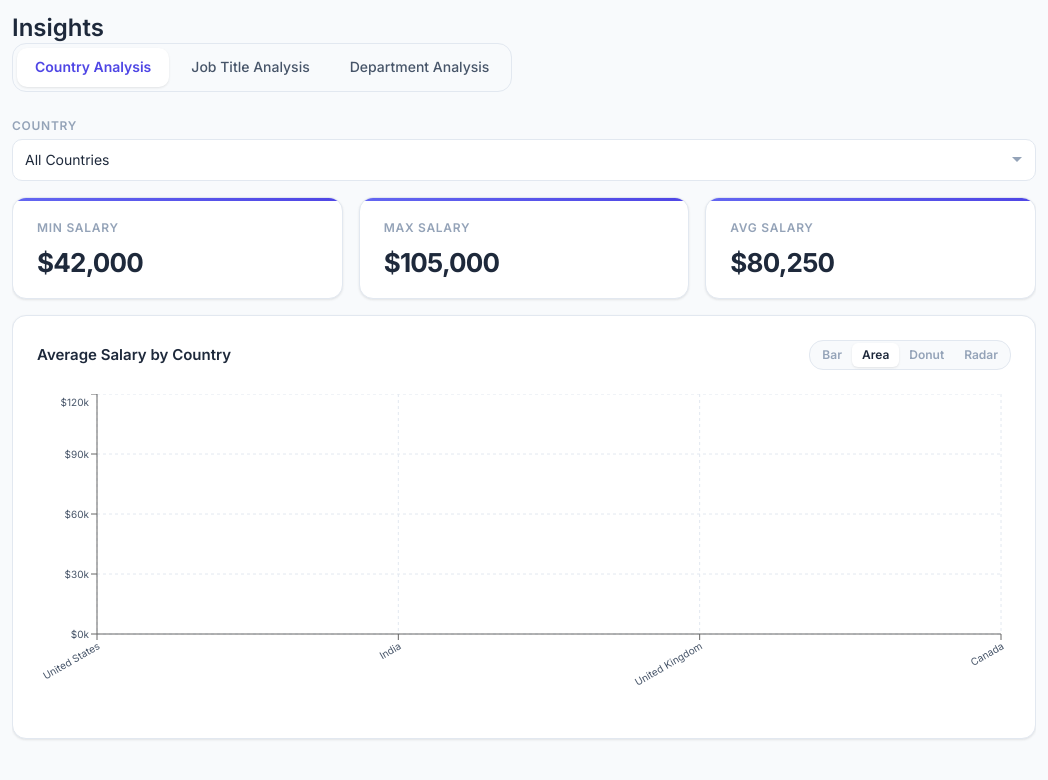
job_title_tab_has_country_and_title_filters
The image size is (1048, 780).
Click the tab "Job Title Analysis" at (250, 67), box [173,48,328,87]
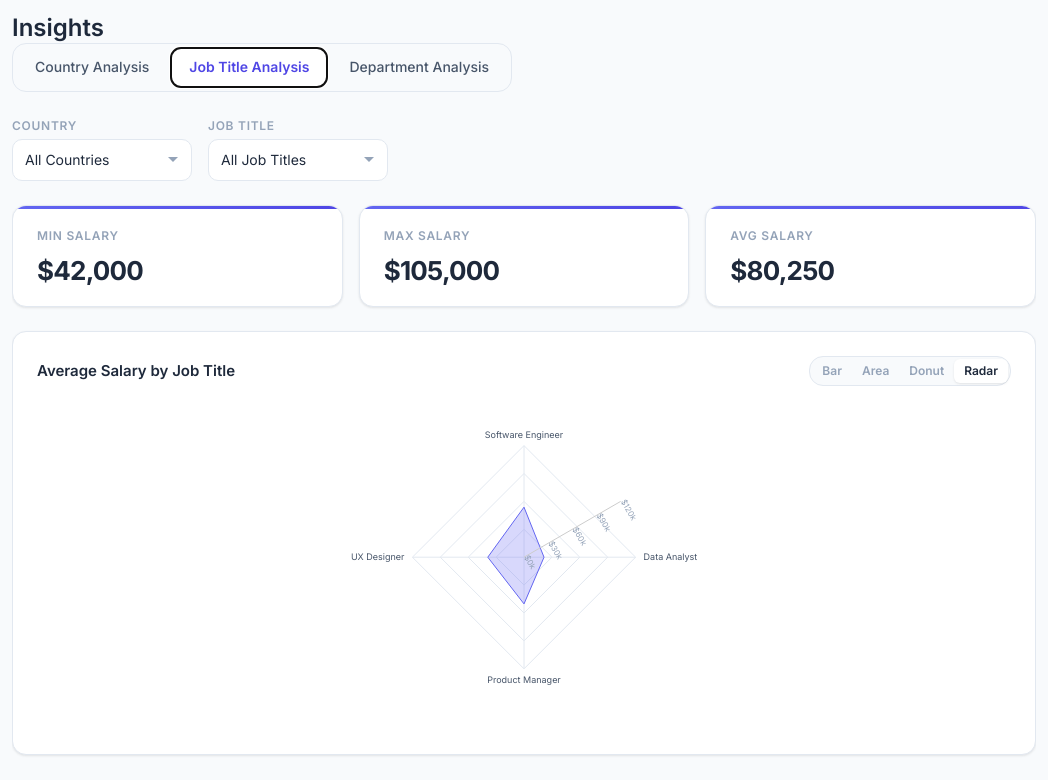
Check: the dropdown labelled "Country" is shown, box [12,139,192,181]
Check: the dropdown labelled "Job Title" is shown, box [208,139,388,181]
